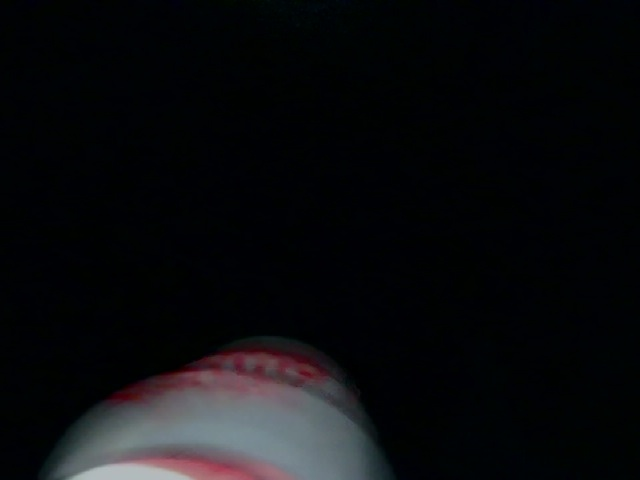CYLJ: (206, 38, 591, 297)
